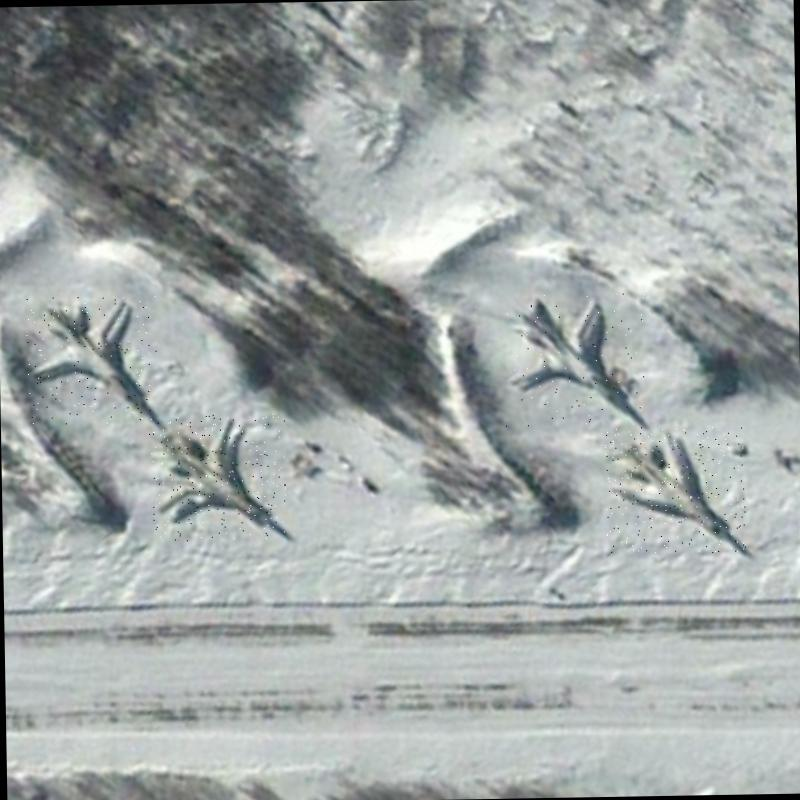A12: (504, 293, 646, 427), (604, 425, 746, 554), (148, 413, 286, 541), (26, 296, 158, 426)
